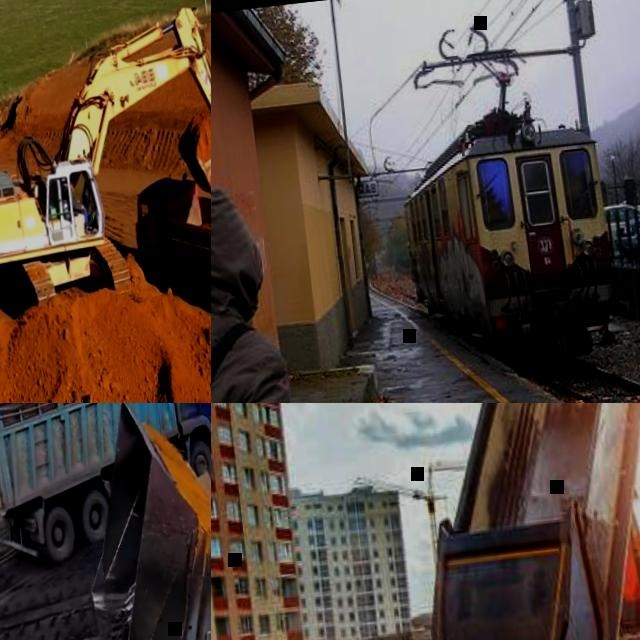NO-Hardhat: (211, 178, 263, 271), (68, 182, 72, 188)
NO-Safety Vest: (65, 192, 78, 214)
Person: (68, 181, 91, 236)
machinery: (0, 0, 211, 317), (387, 403, 640, 640), (45, 403, 211, 640), (0, 403, 211, 572), (128, 161, 211, 333)
